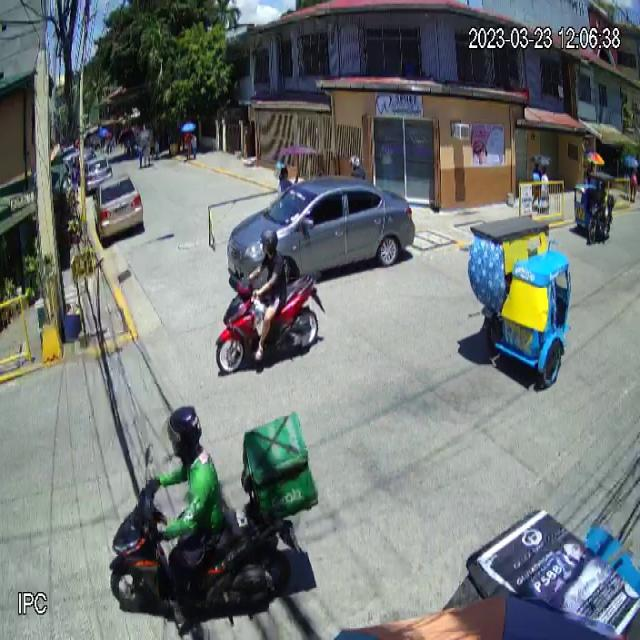Car: (226, 174, 416, 294)
Motorcycle: (110, 444, 304, 628), (214, 263, 326, 381)
Tricycle: (470, 215, 571, 389)
